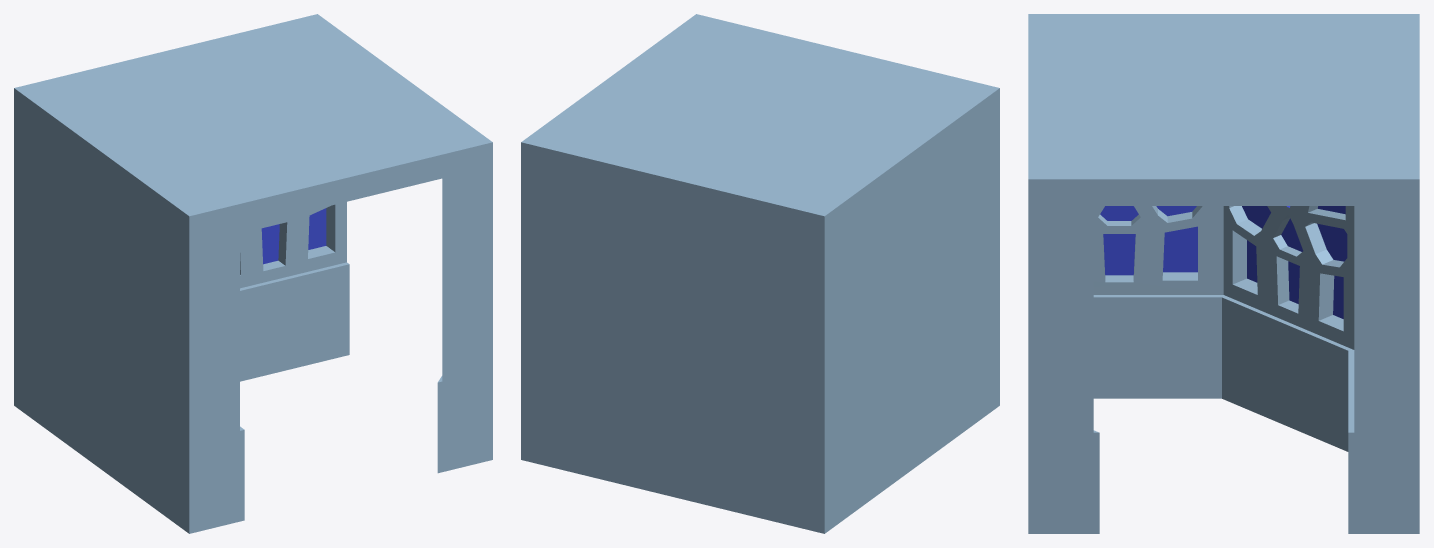
File: EspacioRedSocialScroolGiroBajoNI.gltf
3 views of the same model, side by side, from view 1: azimuth 30°, elevation 25°; view 2: azimuth 150°, elevation 25°; view 3: azimuth 270°, elevation 25° (orthographic). The views are drawn at different scales.
Parts seen in each view (by area): view 1: Cubo.8; view 2: Cubo.8; view 3: Cubo.8.
Boxes of the visible parts, <box> form: Cubo.8: <box>14,14,492,533</box>; Cubo.8: <box>521,14,999,533</box>; Cubo.8: <box>1028,14,1419,533</box>.
Bounding box in the file's own units: 2 × 2 × 2.
1 material, 1 textured.
